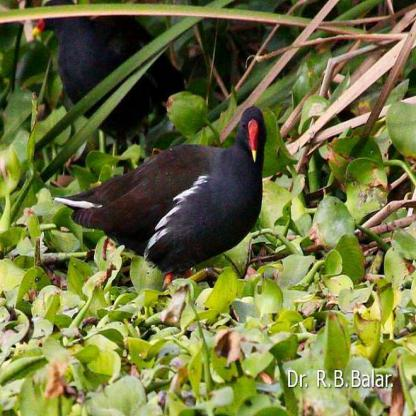Burung: (51, 105, 266, 277)
